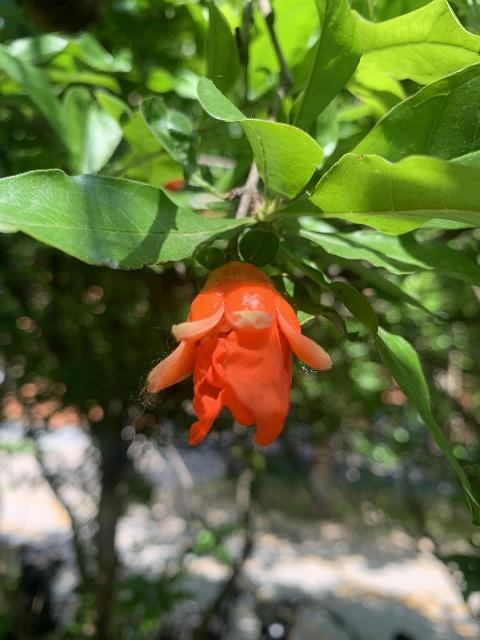flower: (147, 262, 331, 449)
